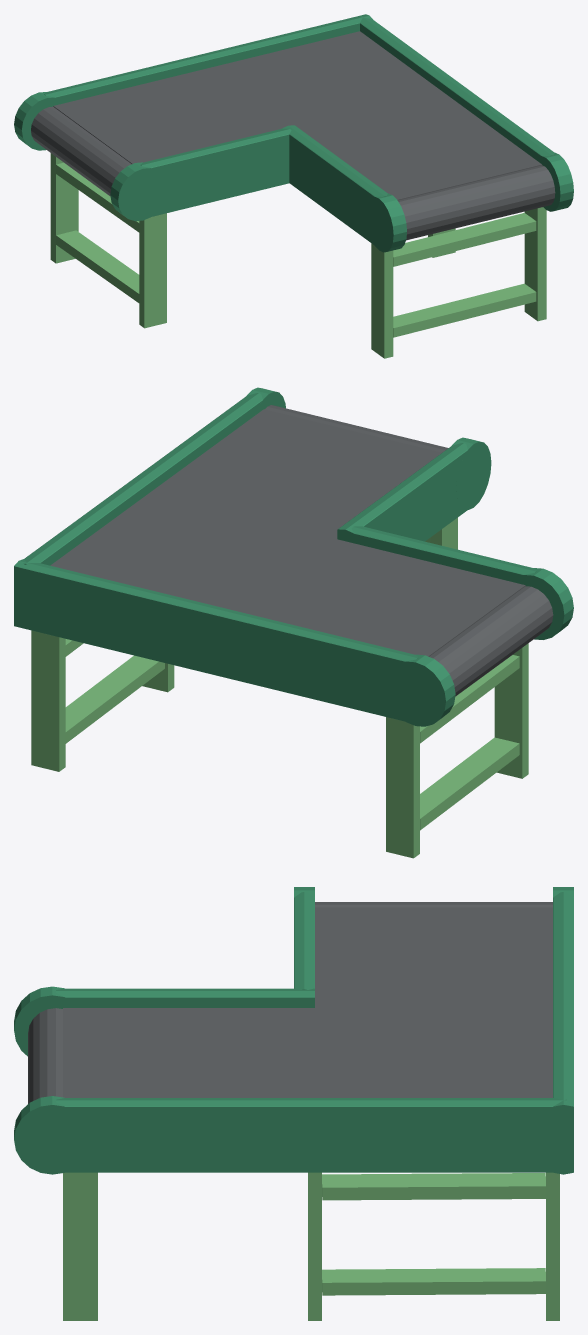
The model's file is Conveyor2.fbx.
The picture shows the model from 3 angles, top to bottom: view 1: azimuth 30°, elevation 25°; view 2: azimuth 150°, elevation 25°; view 3: azimuth 270°, elevation 25°; orthographic projection. The views are drawn at different scales.
Parts seen in each view (by area): view 1: Mesh_Mesh_head_geo.001_lambert2SG.001; view 2: Mesh_Mesh_head_geo.001_lambert2SG.001; view 3: Mesh_Mesh_head_geo.001_lambert2SG.001.
Boxes of the visible parts, x1,y1,x2,y2 form: Mesh_Mesh_head_geo.001_lambert2SG.001: (14, 14, 573, 358); Mesh_Mesh_head_geo.001_lambert2SG.001: (14, 387, 573, 858); Mesh_Mesh_head_geo.001_lambert2SG.001: (14, 887, 573, 1320).
Bounding box in the file's own units: 7800 × 3500 × 8000.
